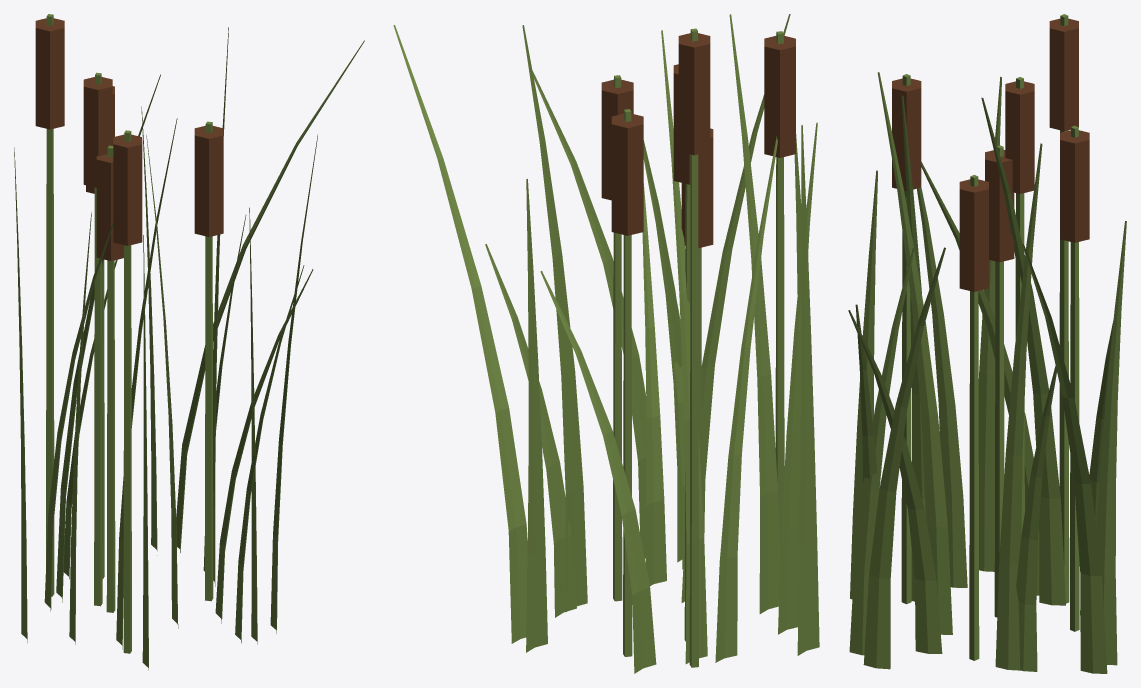
The model's file is SW_Plant_Cattails.obj.
3 renders of one model, left to right at view 1: azimuth 30°, elevation 25°; view 2: azimuth 150°, elevation 25°; view 3: azimuth 270°, elevation 25°, orthographic. The views are drawn at different scales.
Parts seen in each view (by area): view 1: stalk_0, stalk_1, stalk_4, head_1, head_0, head_5, stalk_5, stalk_2, head_4, leaf_2, leaf_15, leaf_1 (+15 smaller); view 2: leaf_2, leaf_14, leaf_0, leaf_12, leaf_15, leaf_8, leaf_3, leaf_11, leaf_13, leaf_10, stalk_1, leaf_5 (+16 smaller); view 3: leaf_0, leaf_9, leaf_2, leaf_1, leaf_10, leaf_3, leaf_8, leaf_13, leaf_4, leaf_12, leaf_5, stalk_5 (+16 smaller).
Part boxes in pixels (<box>): stalk_0: <box>123,130,131,653</box>; stalk_1: <box>46,14,54,596</box>; stalk_4: <box>94,72,102,606</box>; head_1: <box>35,18,64,129</box>; head_0: <box>113,134,142,245</box>; head_5: <box>194,125,223,236</box>; stalk_5: <box>205,121,213,601</box>; stalk_2: <box>106,145,115,612</box>; head_4: <box>83,77,112,187</box>; leaf_2: <box>176,40,364,552</box>; leaf_15: <box>44,222,113,611</box>; leaf_1: <box>270,135,317,633</box>; leaf_2: <box>393,25,527,643</box>; leaf_14: <box>729,14,780,613</box>; leaf_0: <box>522,25,587,611</box>; leaf_12: <box>797,125,819,655</box>; leaf_15: <box>715,136,777,662</box>; leaf_8: <box>526,179,547,652</box>; leaf_3: <box>778,122,817,634</box>; leaf_11: <box>540,271,656,673</box>; leaf_13: <box>642,183,666,585</box>; leaf_10: <box>661,30,707,663</box>; stalk_1: <box>689,28,698,667</box>; leaf_5: <box>485,244,576,617</box>; leaf_0: <box>995,143,1042,670</box>; leaf_9: <box>877,72,952,634</box>; leaf_2: <box>1022,244,1107,673</box>; leaf_1: <box>863,247,945,669</box>; leaf_10: <box>981,97,1065,605</box>; leaf_3: <box>917,187,967,587</box>; leaf_8: <box>1096,221,1126,665</box>; leaf_13: <box>848,310,942,653</box>; leaf_4: <box>849,248,914,655</box>; leaf_12: <box>978,76,1001,571</box>; leaf_5: <box>1016,366,1056,671</box>; stalk_5: <box>969,175,979,660</box>.
Size of the model in its own units: 4.25 by 6.5 by 2.8.
